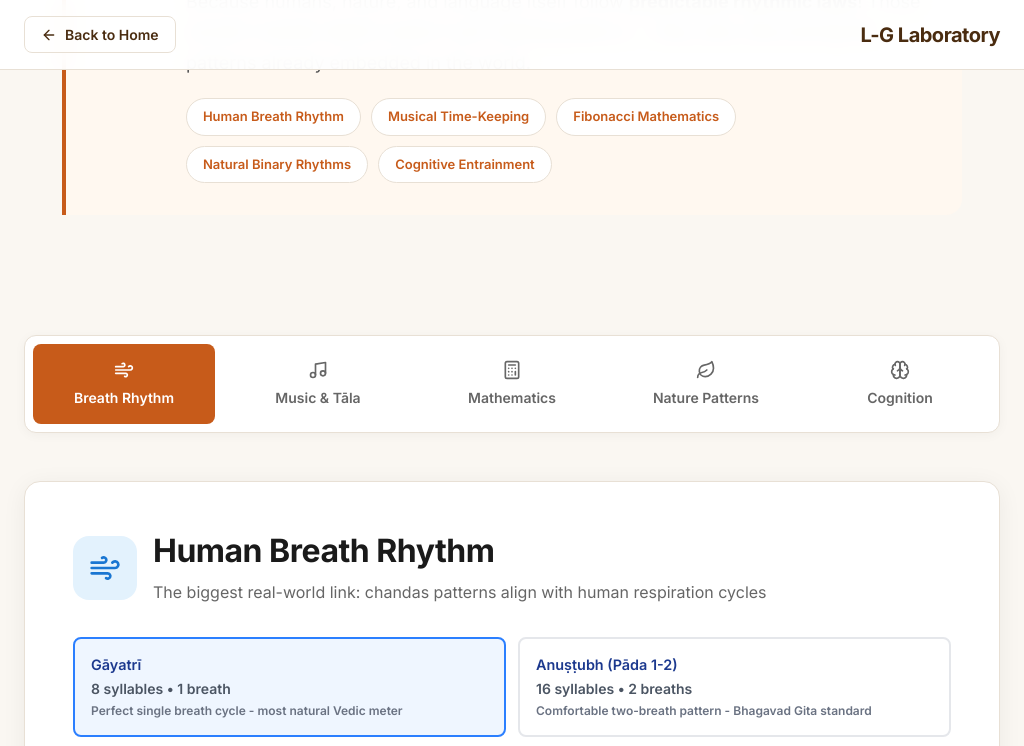
it: LGLab › switches to the Mathematics tab
(page scrolled)
Click the button "Mathematics" at (512, 384), box [421,344,603,424]
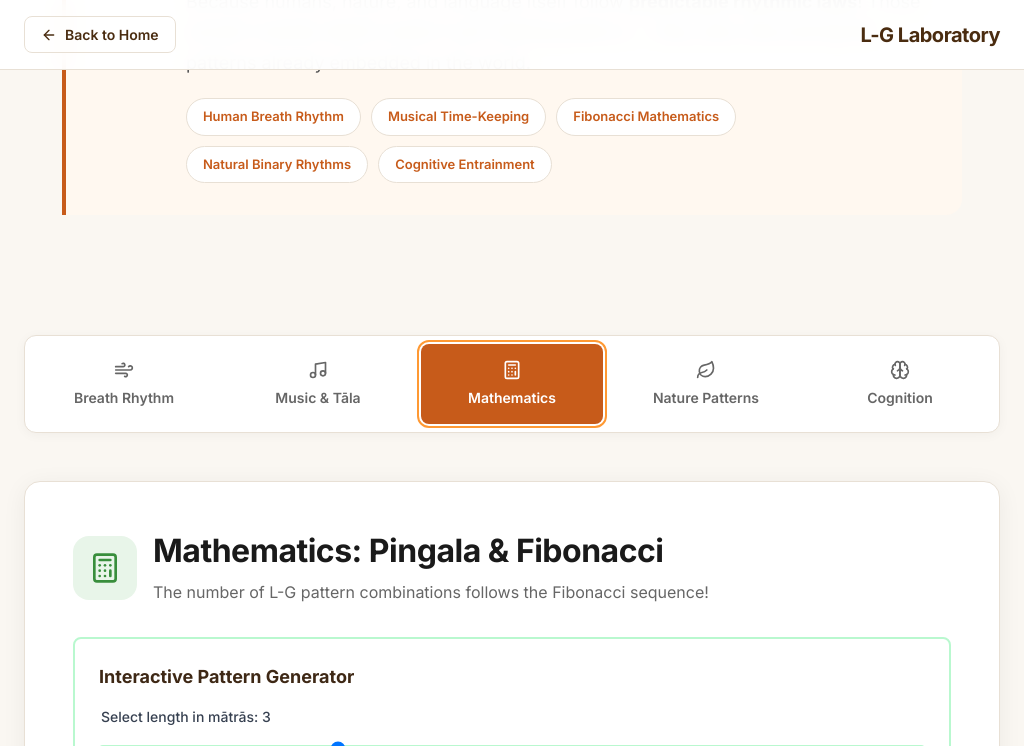
Check: the heading "Mathematics: Pingala & Fibonacci" is shown, box [153,530,709,572]
